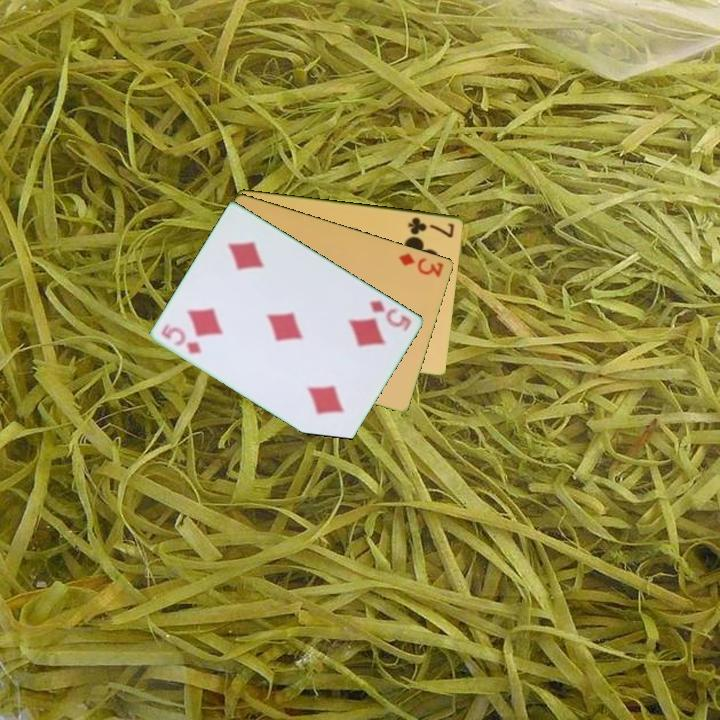3d: (395, 249, 446, 280)
5d: (366, 296, 415, 335), (158, 320, 205, 357)
7c: (405, 214, 457, 240)
